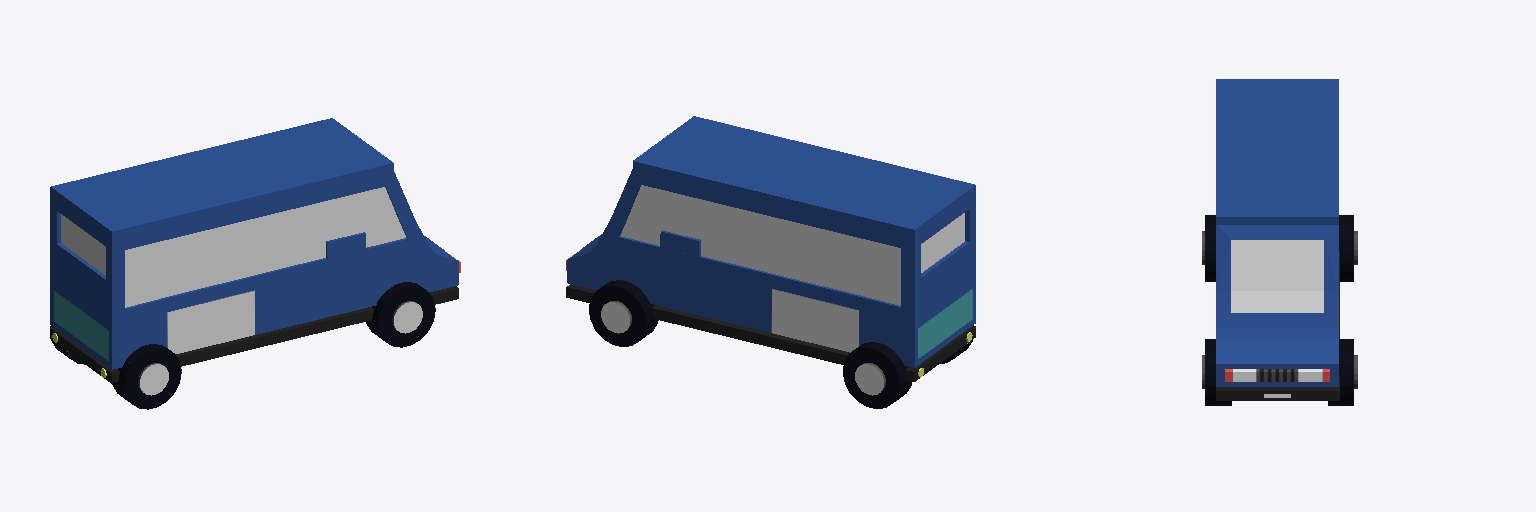
The picture shows the model from 3 angles: view 1: azimuth 30°, elevation 25°; view 2: azimuth 150°, elevation 25°; view 3: azimuth 270°, elevation 25°; orthographic projection.
Parts seen in each view (by area): view 1: Object137; view 2: Object137; view 3: Object137.
Boxes of the visible parts, <box> form: Object137: <box>50,118,460,409</box>; Object137: <box>566,116,975,408</box>; Object137: <box>1202,79,1357,405</box>.
Bounding box in the file's own units: 487 × 238 × 185.
Materials: 1 (1 with a texture image).